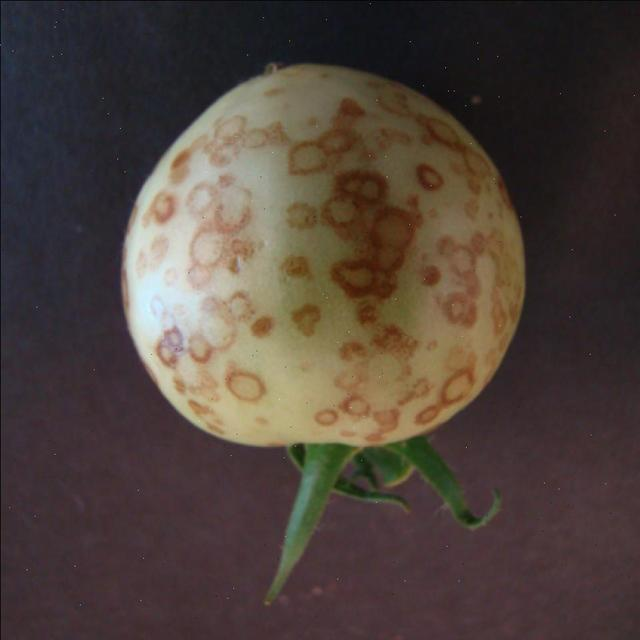Spotted wilt Virus Fruit: (77, 39, 350, 300)
